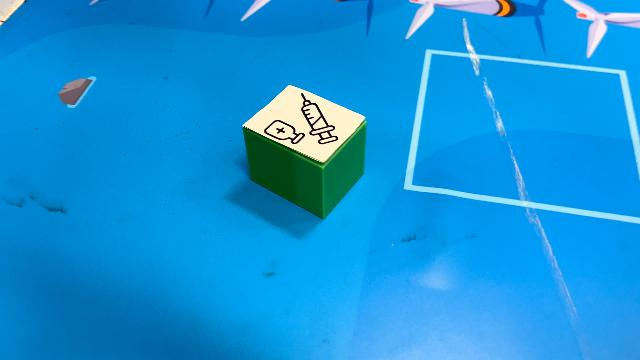syringe: (242, 84, 366, 220)
